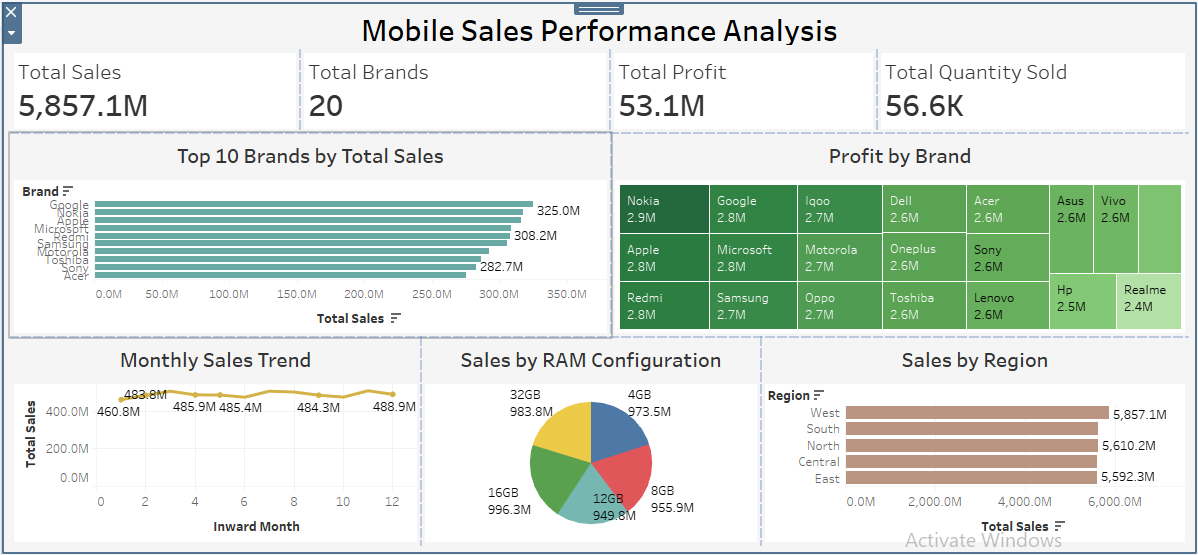

Layout of this report page (visuals, bound fields, positions):
{"tool":"tableau","page":{"name":"Mobile Sales Dashboard","canvas":[1000,1000],"units":"permille","ordinal":0},"visuals":[{"type":"text","box":[6.7,14.5,986.6,70.7]},{"type":"worksheet","title":"KPI-Total Sales","mark":"Automatic","box":[6.7,85.1,242.4,151.8]},{"type":"worksheet","title":"KPI-Total Brands","mark":"Automatic","box":[249.1,85.1,260,151.8]},{"type":"worksheet","title":"KPI-Total Profit","mark":"Automatic","box":[509.1,85.1,223.2,151.8]},{"type":"worksheet","title":"KPI-Total Quantity Sold","mark":"Automatic","box":[732.3,85.1,261,151.8]},{"type":"worksheet","title":"Sales by brand","mark":"Automatic","rows":["brand"],"cols":["total_sales"],"box":[6.7,237,502.6,370.7]},{"type":"worksheet","title":"Profit by brand","mark":"Automatic","box":[509.3,237,484,370.7]},{"type":"worksheet","title":"Monthly Sales","mark":"Line","rows":["total_sales"],"cols":["inward_month"],"box":[6.7,607.7,343.9,377.8]},{"type":"worksheet","title":"Sales by RAM","mark":"Pie","box":[350.6,607.7,284.5,377.8]},{"type":"worksheet","title":"Sales by Region","mark":"Automatic","rows":["region"],"cols":["total_sales"],"box":[635.1,607.7,358.2,377.8]}]}

Visuals, with their boxes on the dashboard's canvas, which has no fixed pixel size, in thousandths of its width and height (x1, y1, x2, y2). These are canvas units, not pixel positions in the 1198x555 screenshot, which may show the page scaled, cropped or inside an application window:
text: [7,14,993,85]
"KPI-Total Sales" worksheet: [7,85,249,237]
"KPI-Total Brands" worksheet: [249,85,509,237]
"KPI-Total Profit" worksheet: [509,85,732,237]
"KPI-Total Quantity Sold" worksheet: [732,85,993,237]
"Sales by brand" worksheet: [7,237,509,608]
"Profit by brand" worksheet: [509,237,993,608]
"Monthly Sales" worksheet (Line marks): [7,608,351,986]
"Sales by RAM" worksheet (Pie marks): [351,608,635,986]
"Sales by Region" worksheet: [635,608,993,986]
